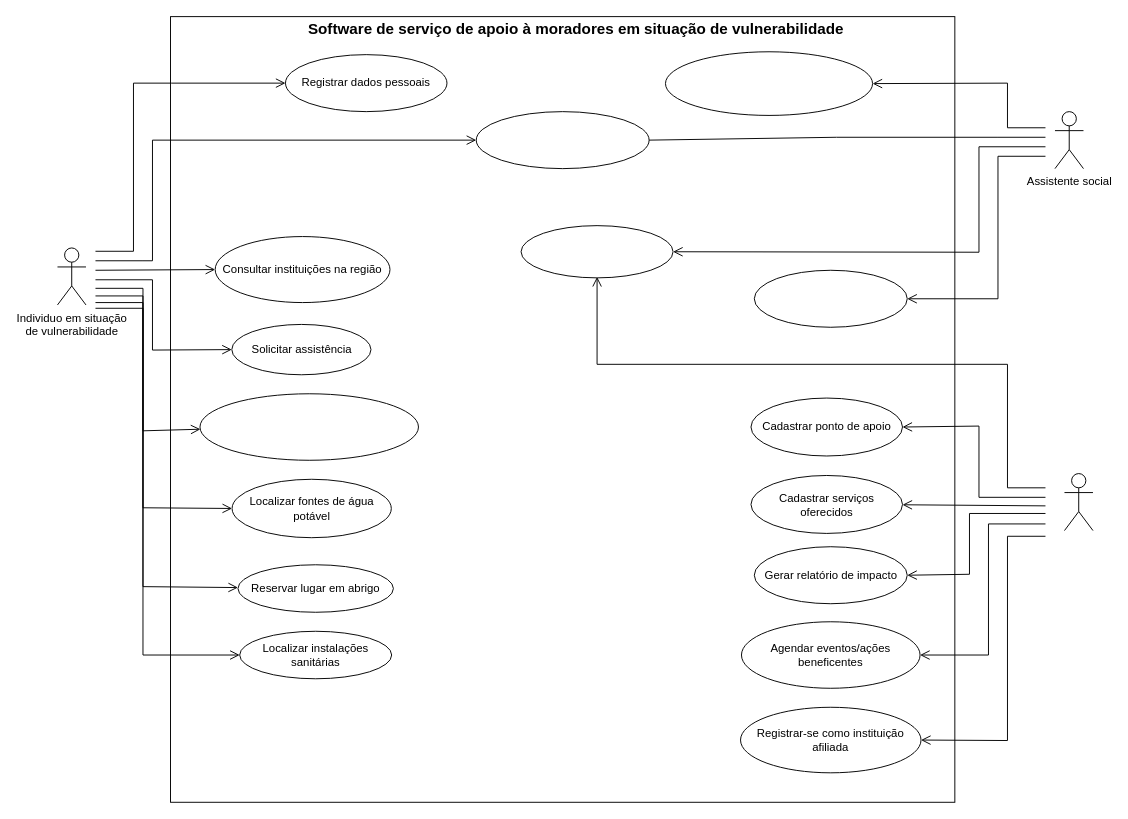
The diagram is 1128 pixels wide and 819 high, and some of its shapes have lost their labels. Here are the shapes that lost their labels. From the top down, the centre of each, then its label:
the point at 769,83: Registrar individuo em situação de vulnerabilidade
the point at 562,140: Acessar suporte em tempo real
the point at 596,251: Atender solicitação de assistência
the point at 830,298: Gerar relatório do individuo
the point at 308,426: Verificar disponibilidade em ponto de distribuição de alimento
the point at 1078,502: Instituição
